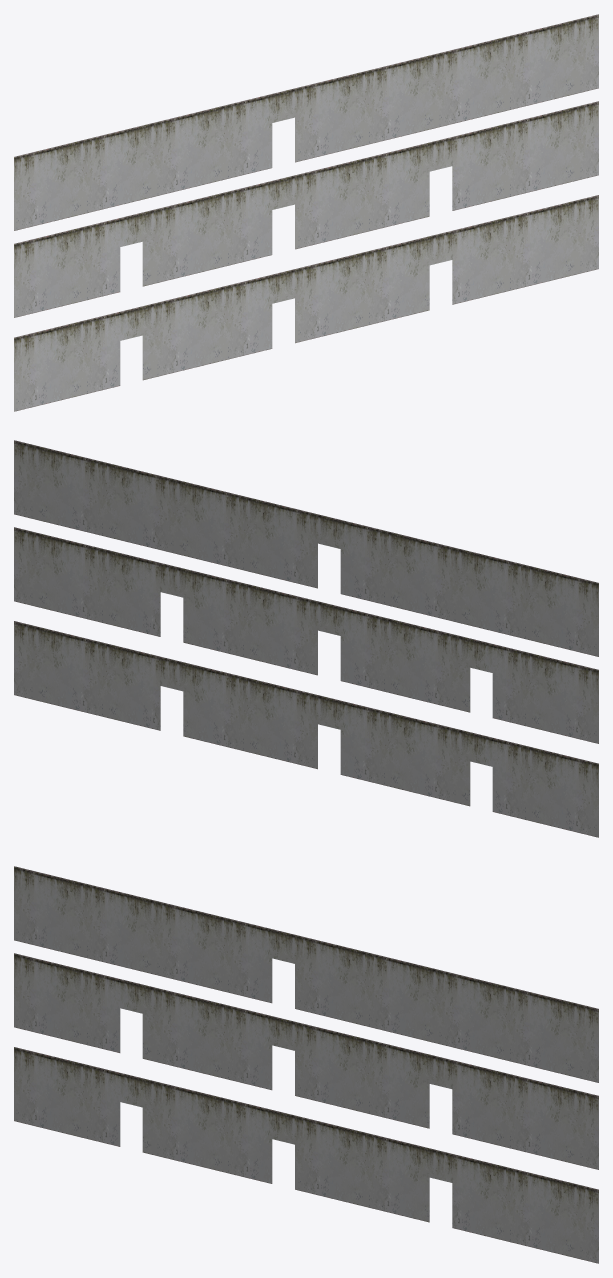
File: PAREDES_PRUEVA.fbx
The picture shows the model from 3 angles, top to bottom: view 1: azimuth 30°, elevation 25°; view 2: azimuth 150°, elevation 25°; view 3: azimuth 330°, elevation 25°; orthographic projection.
Visible parts, largest first — view 1: EDIFICIOS.001, EDIFICIOS.002, EDIFICIOS.003; view 2: EDIFICIOS.001, EDIFICIOS.002, EDIFICIOS.003; view 3: EDIFICIOS.001, EDIFICIOS.003, EDIFICIOS.002.
Boxes of the visible parts, box(x1,y1,x2,y2) form: EDIFICIOS.001: box(14, 14, 598, 230); EDIFICIOS.002: box(14, 101, 598, 317); EDIFICIOS.003: box(14, 195, 598, 411); EDIFICIOS.001: box(14, 440, 598, 656); EDIFICIOS.002: box(14, 527, 598, 743); EDIFICIOS.003: box(14, 621, 598, 837); EDIFICIOS.001: box(14, 866, 598, 1082); EDIFICIOS.003: box(14, 1047, 598, 1263); EDIFICIOS.002: box(14, 953, 598, 1169).
Bounding box in the file's own units: 3242 × 1350 × 0.
